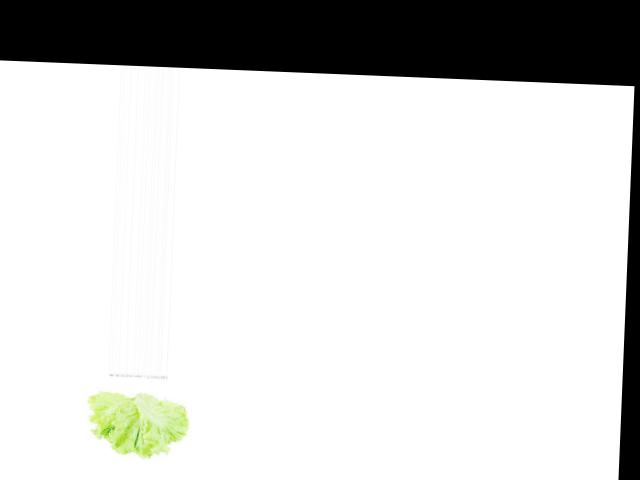lettuce: (84, 377, 193, 461)
